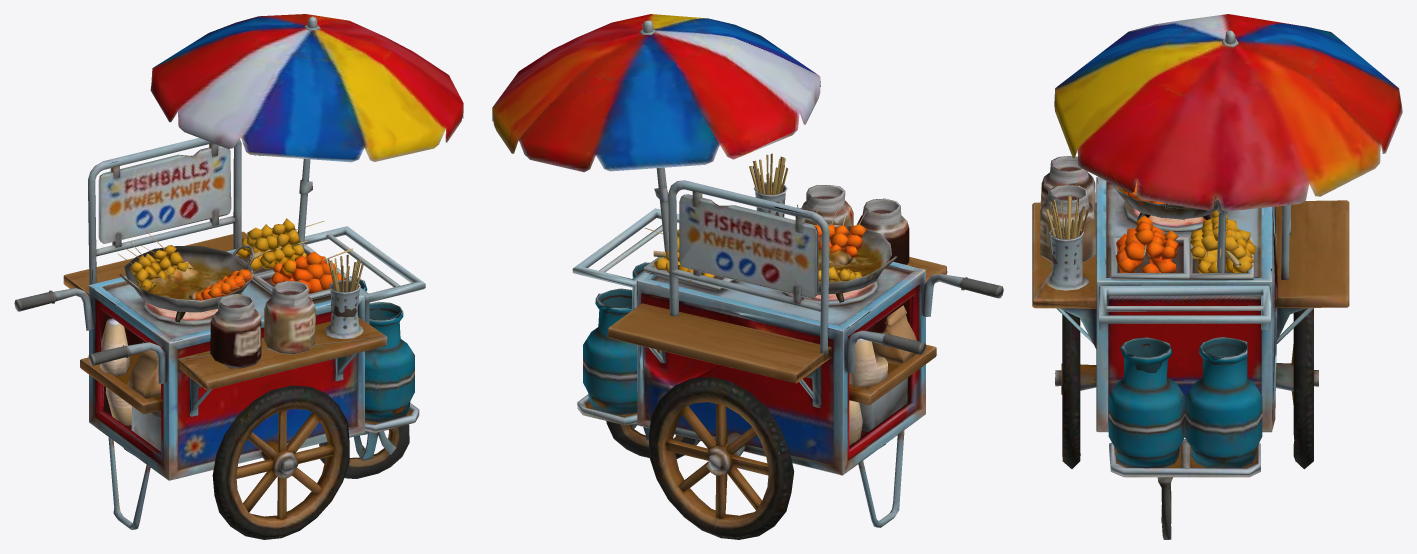
File: fishball-cart.glb
3 renders of one model, left to right at view 1: azimuth 30°, elevation 25°; view 2: azimuth 150°, elevation 25°; view 3: azimuth 270°, elevation 25°, orthographic. The views are drawn at different scales.
Parts seen in each view (by area): view 1: geometry_0; view 2: geometry_0; view 3: geometry_0.
Boxes of the visible parts, x1=… form: geometry_0: x1=14, y1=14, x2=463, y2=539; geometry_0: x1=492, y1=14, x2=1003, y2=539; geometry_0: x1=1032, y1=14, x2=1402, y2=539.
Bounding box in the file's own units: 0.917 × 0.9517 × 0.6557.
Materials: 1 (1 with a texture image).
